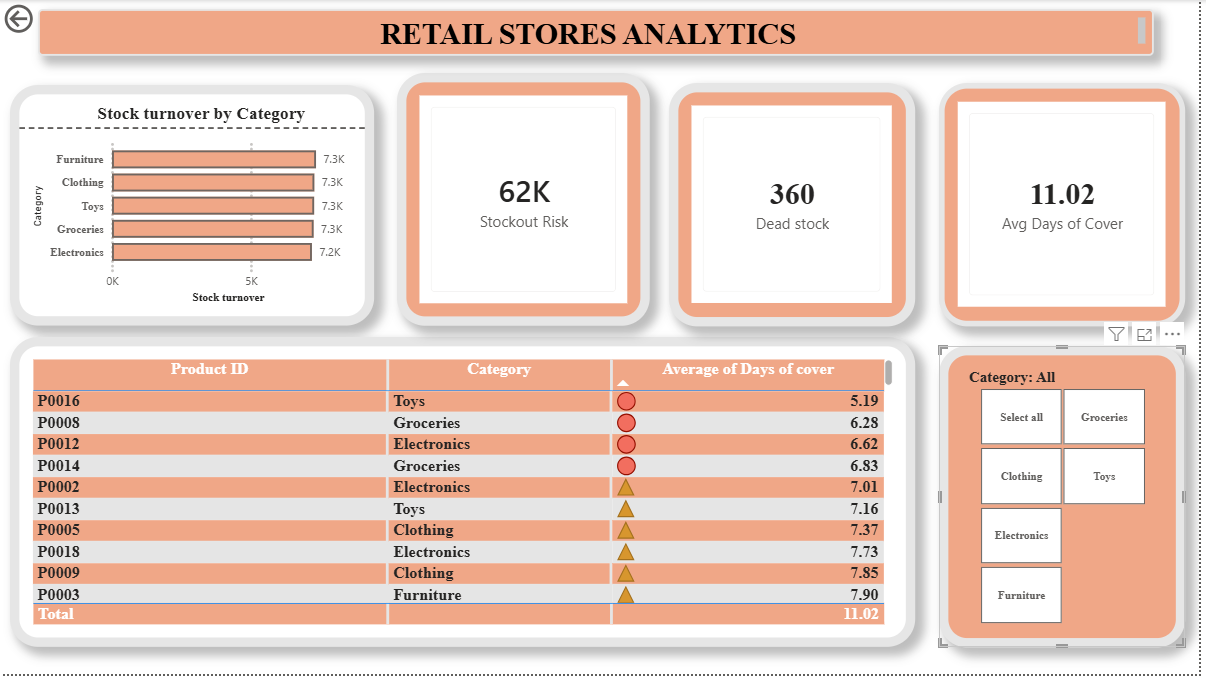

The page's visual inventory and layout, read from the dashboard file:
{"tool":"powerbi","page":{"name":"Page 1","canvas":[1280,720],"ordinal":0},"visuals":[{"type":"clusteredBarChart","fields":{"Category":["retail_store_inventory.Category"],"Y":["retail_store_inventory.Stock turnover"]},"box":[10.7,90.8,388.8,257.4],"z":0},{"type":"tableEx","fields":{"Values":["retail_store_inventory.Product ID","retail_store_inventory.Category","Avg(retail_store_inventory.Days of cover)"]},"box":[10.7,360,966.8,331.2],"z":1},{"type":"actionButton","box":[0,0,100,40],"z":2},{"type":"cardVisual","fields":{"Data":["retail_store_inventory.Avg Days of Cover"]},"box":[1003.1,88.7,262.8,259.6],"z":4},{"type":"cardVisual","fields":{"Data":["retail_store_inventory.Stockout Risk"]},"box":[424.1,78,270.3,270.3],"z":5},{"type":"cardVisual","fields":{"Data":["retail_store_inventory.Dead stock"]},"box":[714.7,88.7,262.8,259.6],"z":6},{"type":"slicer","fields":{"Values":["retail_store_inventory.Category"]},"box":[1003.1,369.6,262.8,321.5],"z":7},{"type":"textbox","box":[40.6,9.6,1192.2,50.2],"z":8}]}

Visuals, with their boxes in screenshot pixels (x1, y1, x2, y2), scaled from the page's 1280x720 canvas onto the 1206x676 screenshot:
clusteredBarChart - retail_store_inventory.Category x retail_store_inventory.Stock turnover: box=[10, 85, 376, 327]
tableEx - retail_store_inventory.Product ID x retail_store_inventory.Category: box=[10, 338, 921, 649]
actionButton: box=[0, 0, 94, 38]
cardVisual - retail_store_inventory.Avg Days of Cover: box=[945, 83, 1193, 327]
cardVisual - retail_store_inventory.Stockout Risk: box=[400, 73, 654, 327]
cardVisual - retail_store_inventory.Dead stock: box=[673, 83, 921, 327]
slicer - retail_store_inventory.Category: box=[945, 347, 1193, 649]
textbox: box=[38, 9, 1162, 56]
